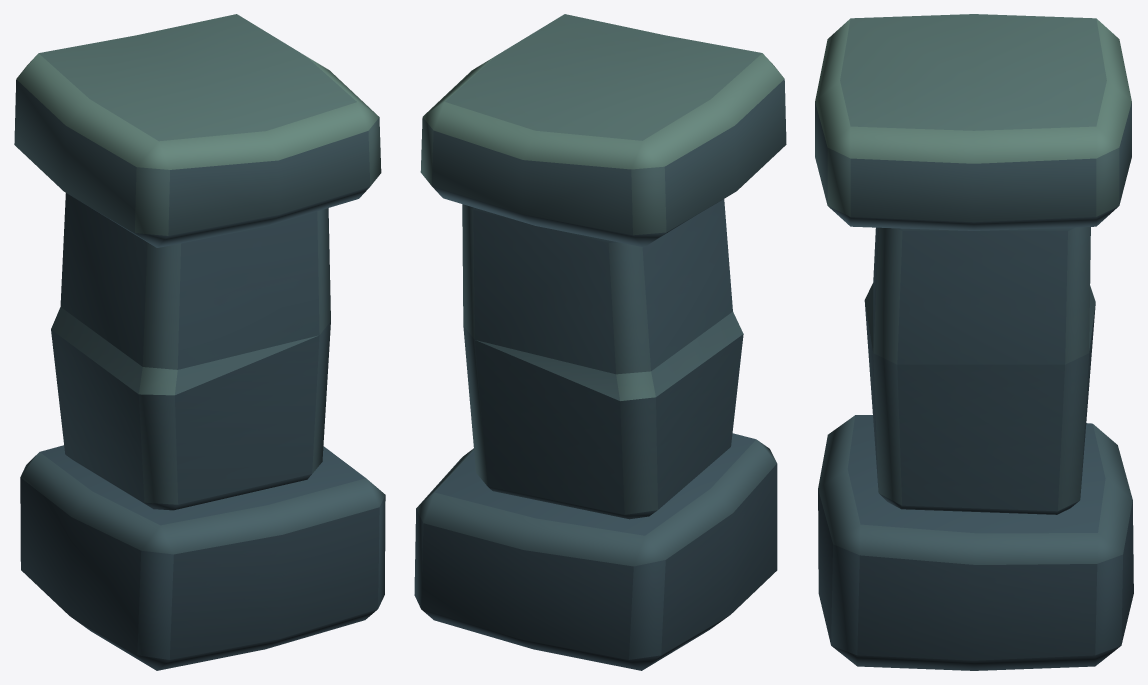
The model's file is fence_pillar_2_LOD_setup.fbx.
3 views of the same model, side by side, from view 1: azimuth 30°, elevation 25°; view 2: azimuth 150°, elevation 25°; view 3: azimuth 270°, elevation 25° (orthographic). The views are drawn at different scales.
Parts seen in each view (by area): view 1: fence_pillar_2_LOD0; view 2: fence_pillar_2_LOD0; view 3: fence_pillar_2_LOD0.
Part boxes in pixels (<box>): fence_pillar_2_LOD0: <box>14,14,385,670</box>; fence_pillar_2_LOD0: <box>414,14,786,670</box>; fence_pillar_2_LOD0: <box>815,14,1133,670</box>.
Size of what is drawn, in the model's own units: 84.29 by 156 by 83.05.
